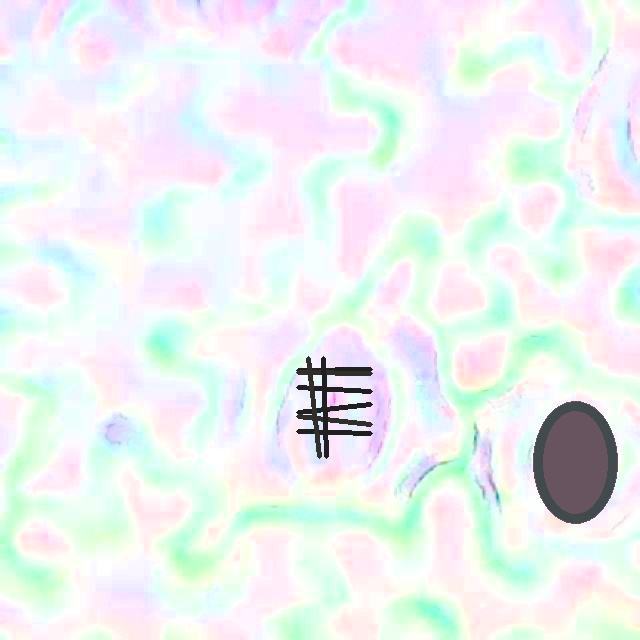open: (533, 401, 616, 522), (297, 357, 371, 458)
